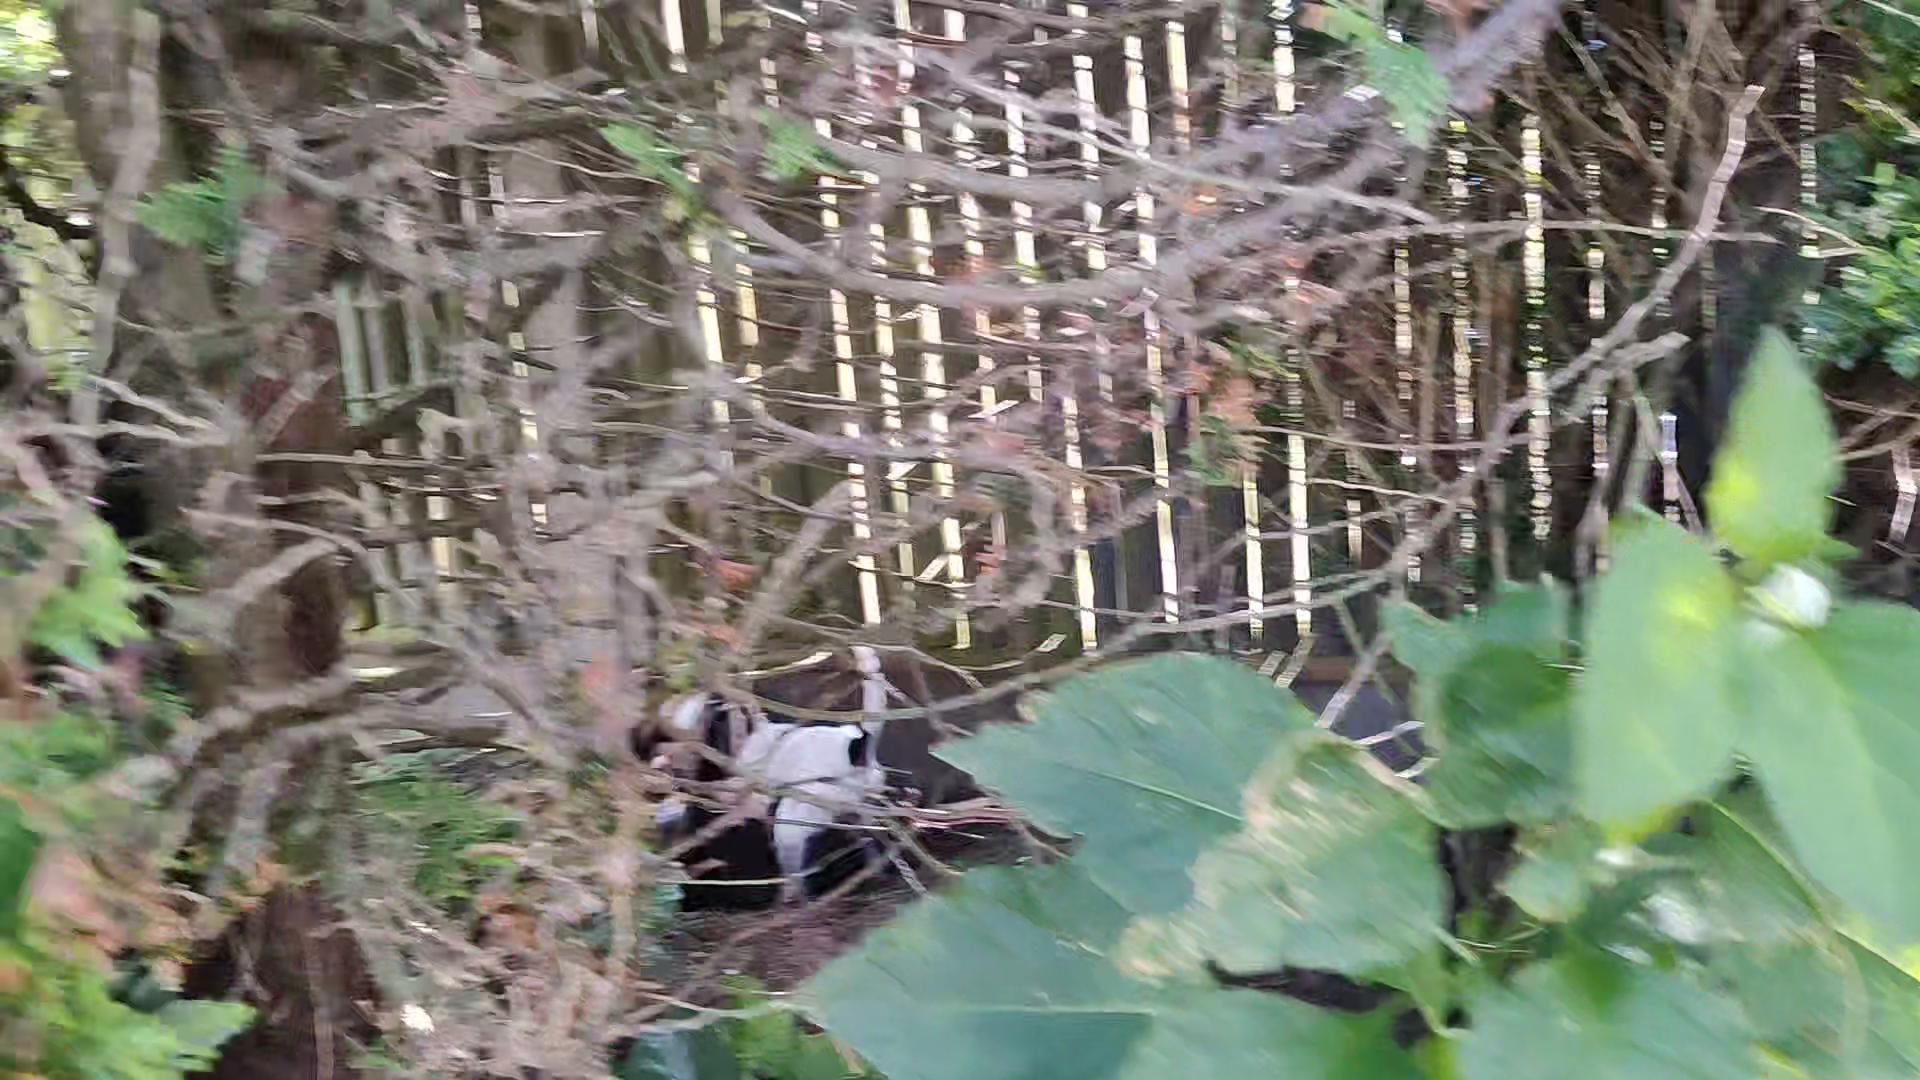Dog: (640, 622, 916, 915)
